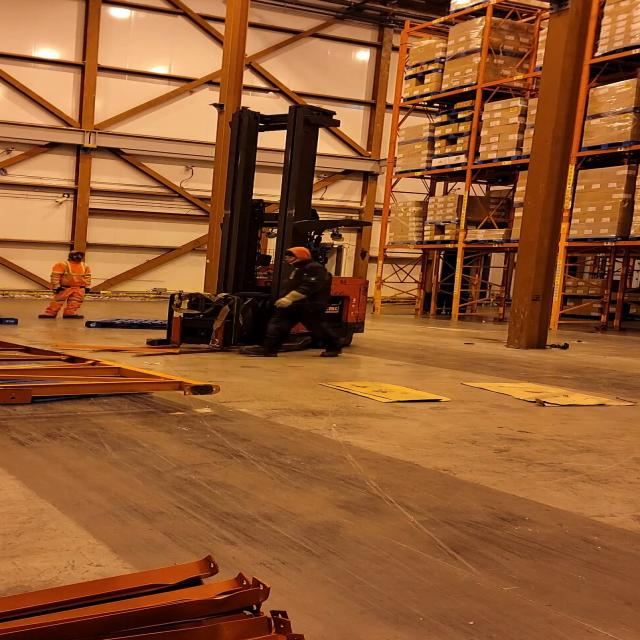forklift: (144, 113, 375, 359)
human: (238, 245, 356, 359), (28, 247, 98, 323)
objectofinterest: (0, 343, 224, 405), (459, 376, 640, 409), (313, 377, 455, 405), (74, 312, 178, 331), (0, 308, 19, 326)
